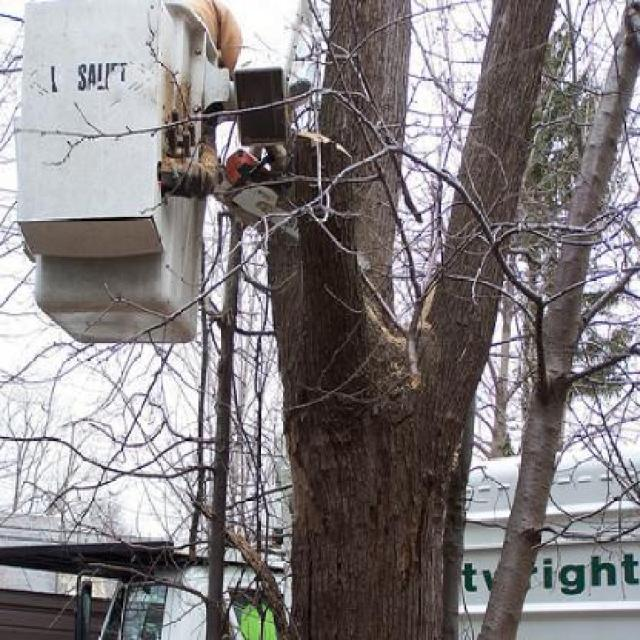Chainsaw: (208, 77, 312, 246)
